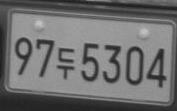0: (124, 44, 144, 85)
3: (101, 43, 122, 83)
4: (146, 47, 167, 88)
5: (81, 42, 100, 82)
7: (35, 37, 55, 78)
9: (13, 36, 33, 75)
두: (56, 46, 76, 79)
